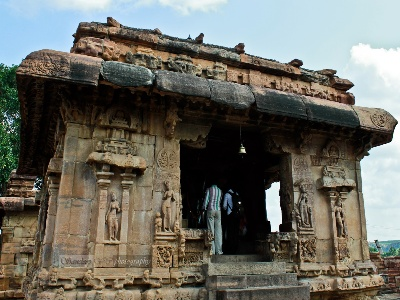mandapa: (12, 11, 391, 271)
